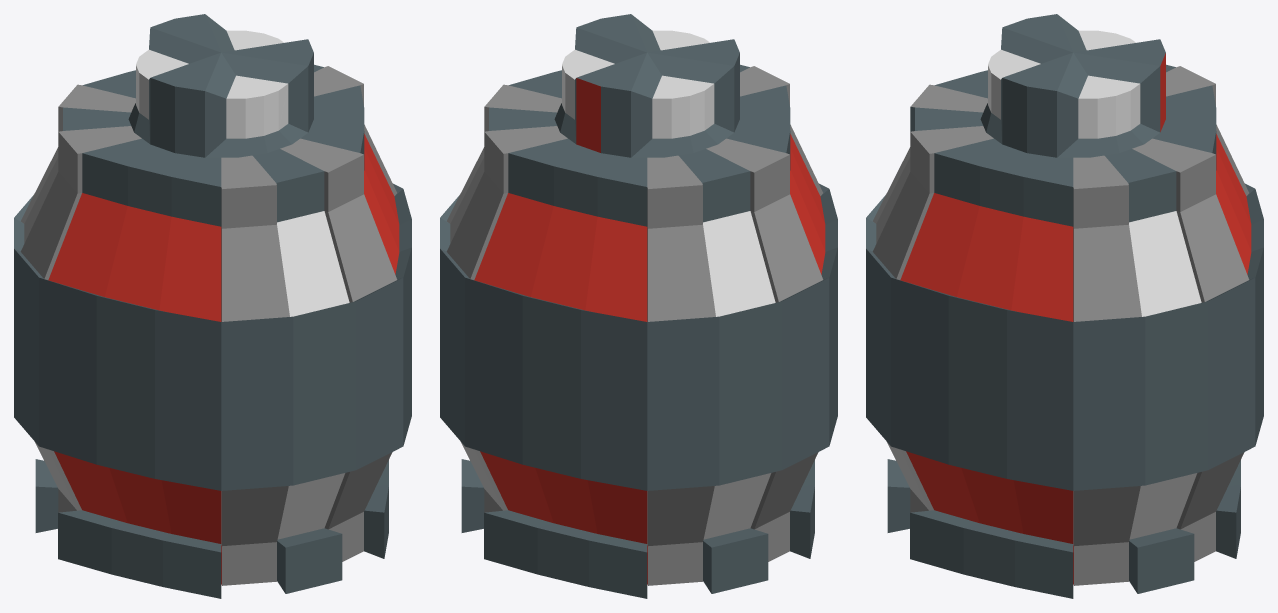
File: Explosive_Barrels.fbx
3 views of the same model, side by side, from view 1: azimuth 30°, elevation 25°; view 2: azimuth 150°, elevation 25°; view 3: azimuth 270°, elevation 25° (orthographic).
Parts seen in each view (by area): view 1: Explosive Barrel; view 2: Explosive Barrel; view 3: Explosive Barrel.
Part boxes in pixels (x1,y1,x2,y2): Explosive Barrel: (14, 14, 411, 598); Explosive Barrel: (440, 14, 837, 598); Explosive Barrel: (866, 14, 1263, 598).
Bounding box in the file's own units: 454 × 556 × 429.
